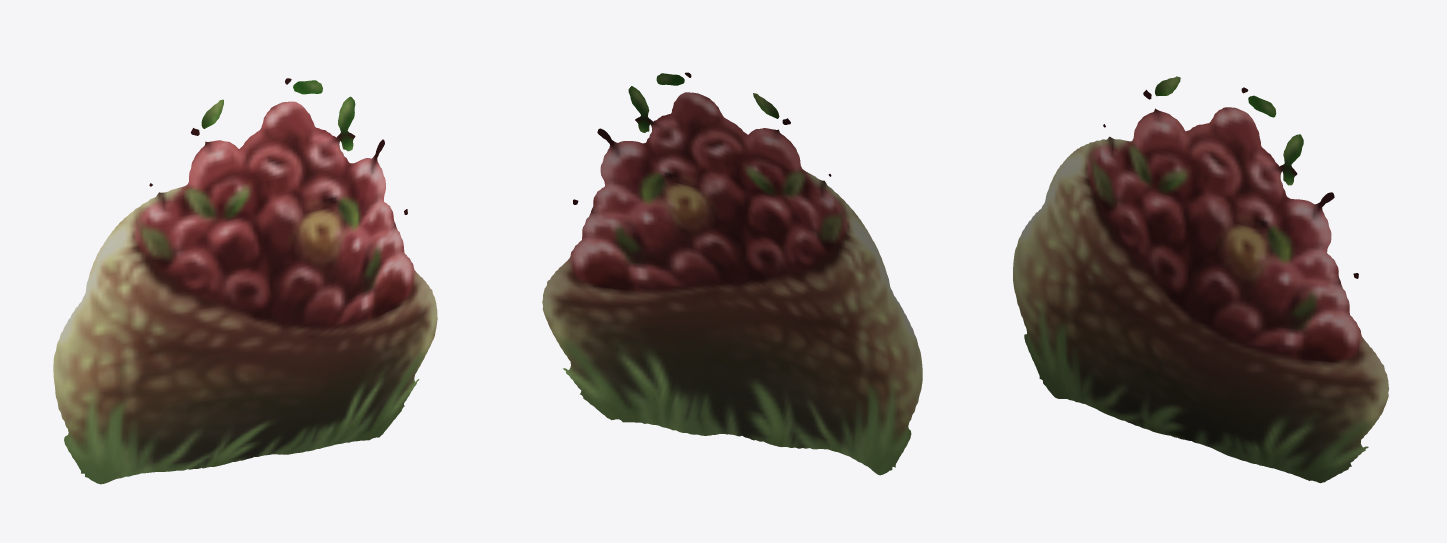
The model's file is Bag Of Apples.FBX.
3 renders of one model, left to right at view 1: azimuth 30°, elevation 25°; view 2: azimuth 150°, elevation 25°; view 3: azimuth 330°, elevation 25°, orthographic.
Parts seen in each view (by area): view 1: Bag of Apples; view 2: Bag of Apples; view 3: Bag of Apples.
Boxes of the visible parts, x1,y1,x2,y2 form: Bag of Apples: (53,78,437,484); Bag of Apples: (542,72,922,475); Bag of Apples: (1013,76,1388,483).
Size of the model in its own units: 318 by 42.83 by 304.
1 material, 1 textured.
